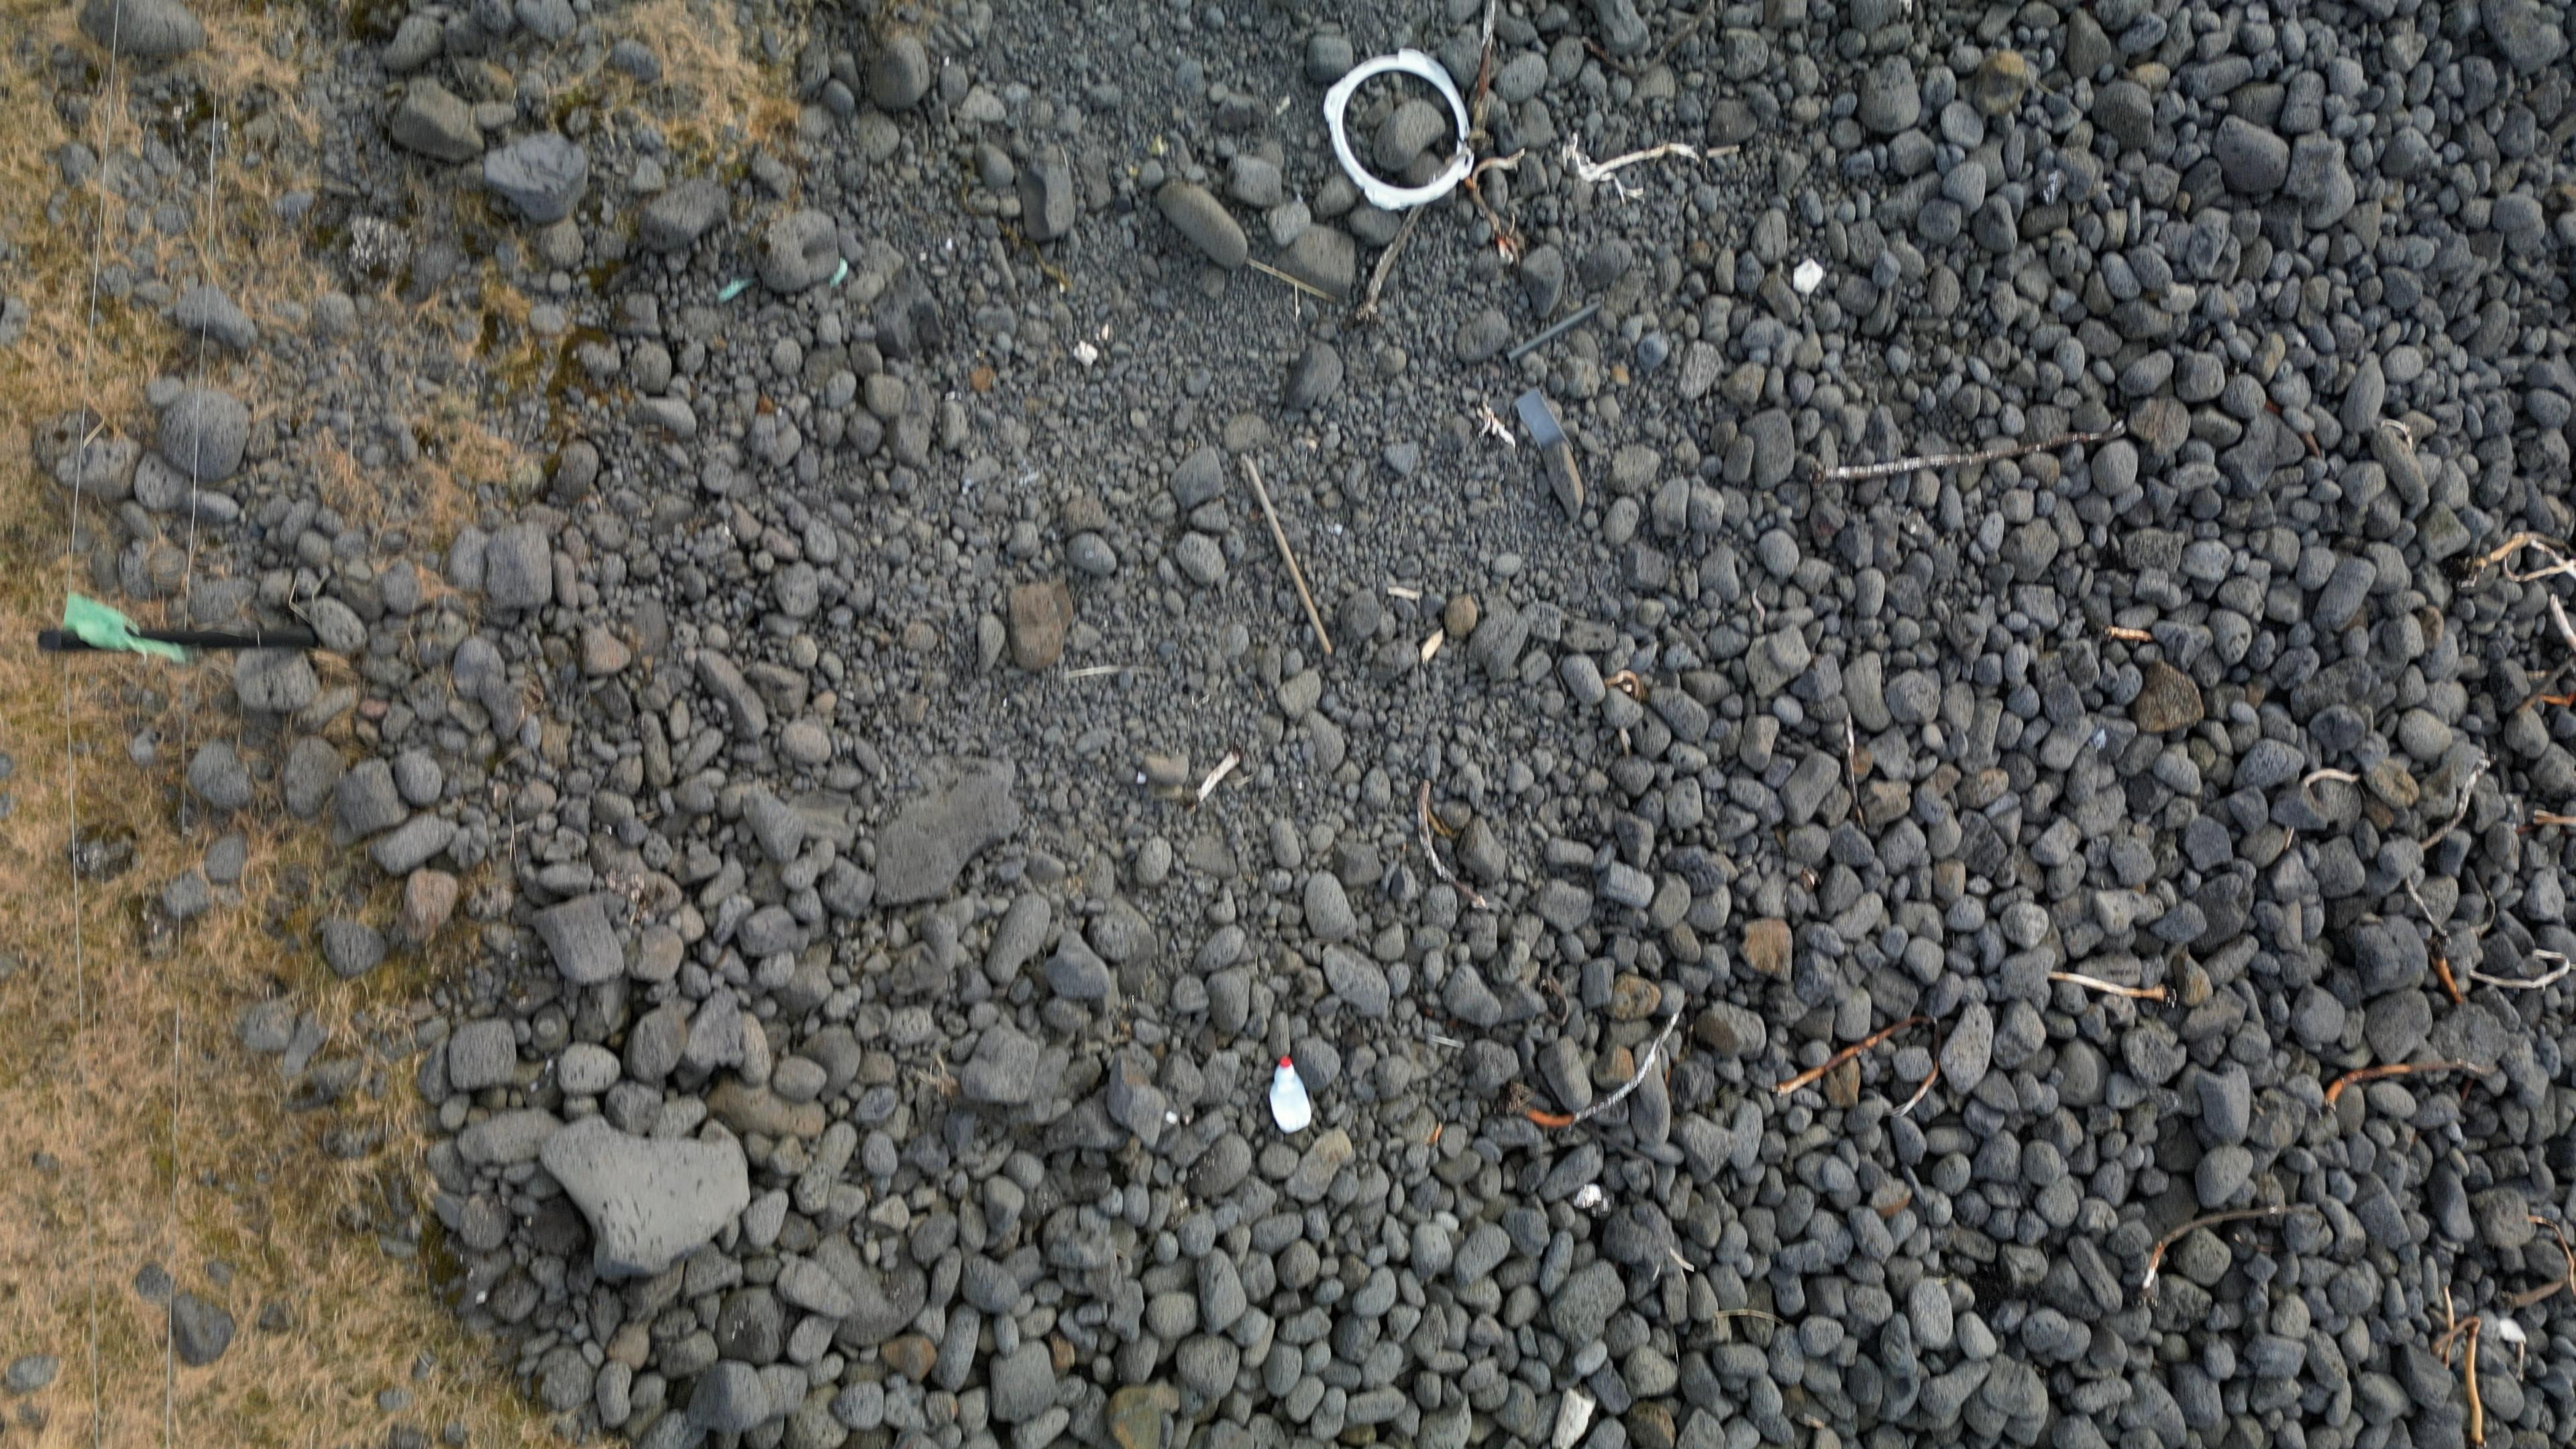trash: (1323, 50, 1474, 211), (1504, 303, 1599, 363), (1269, 1056, 1313, 1132), (1514, 387, 1564, 448)
